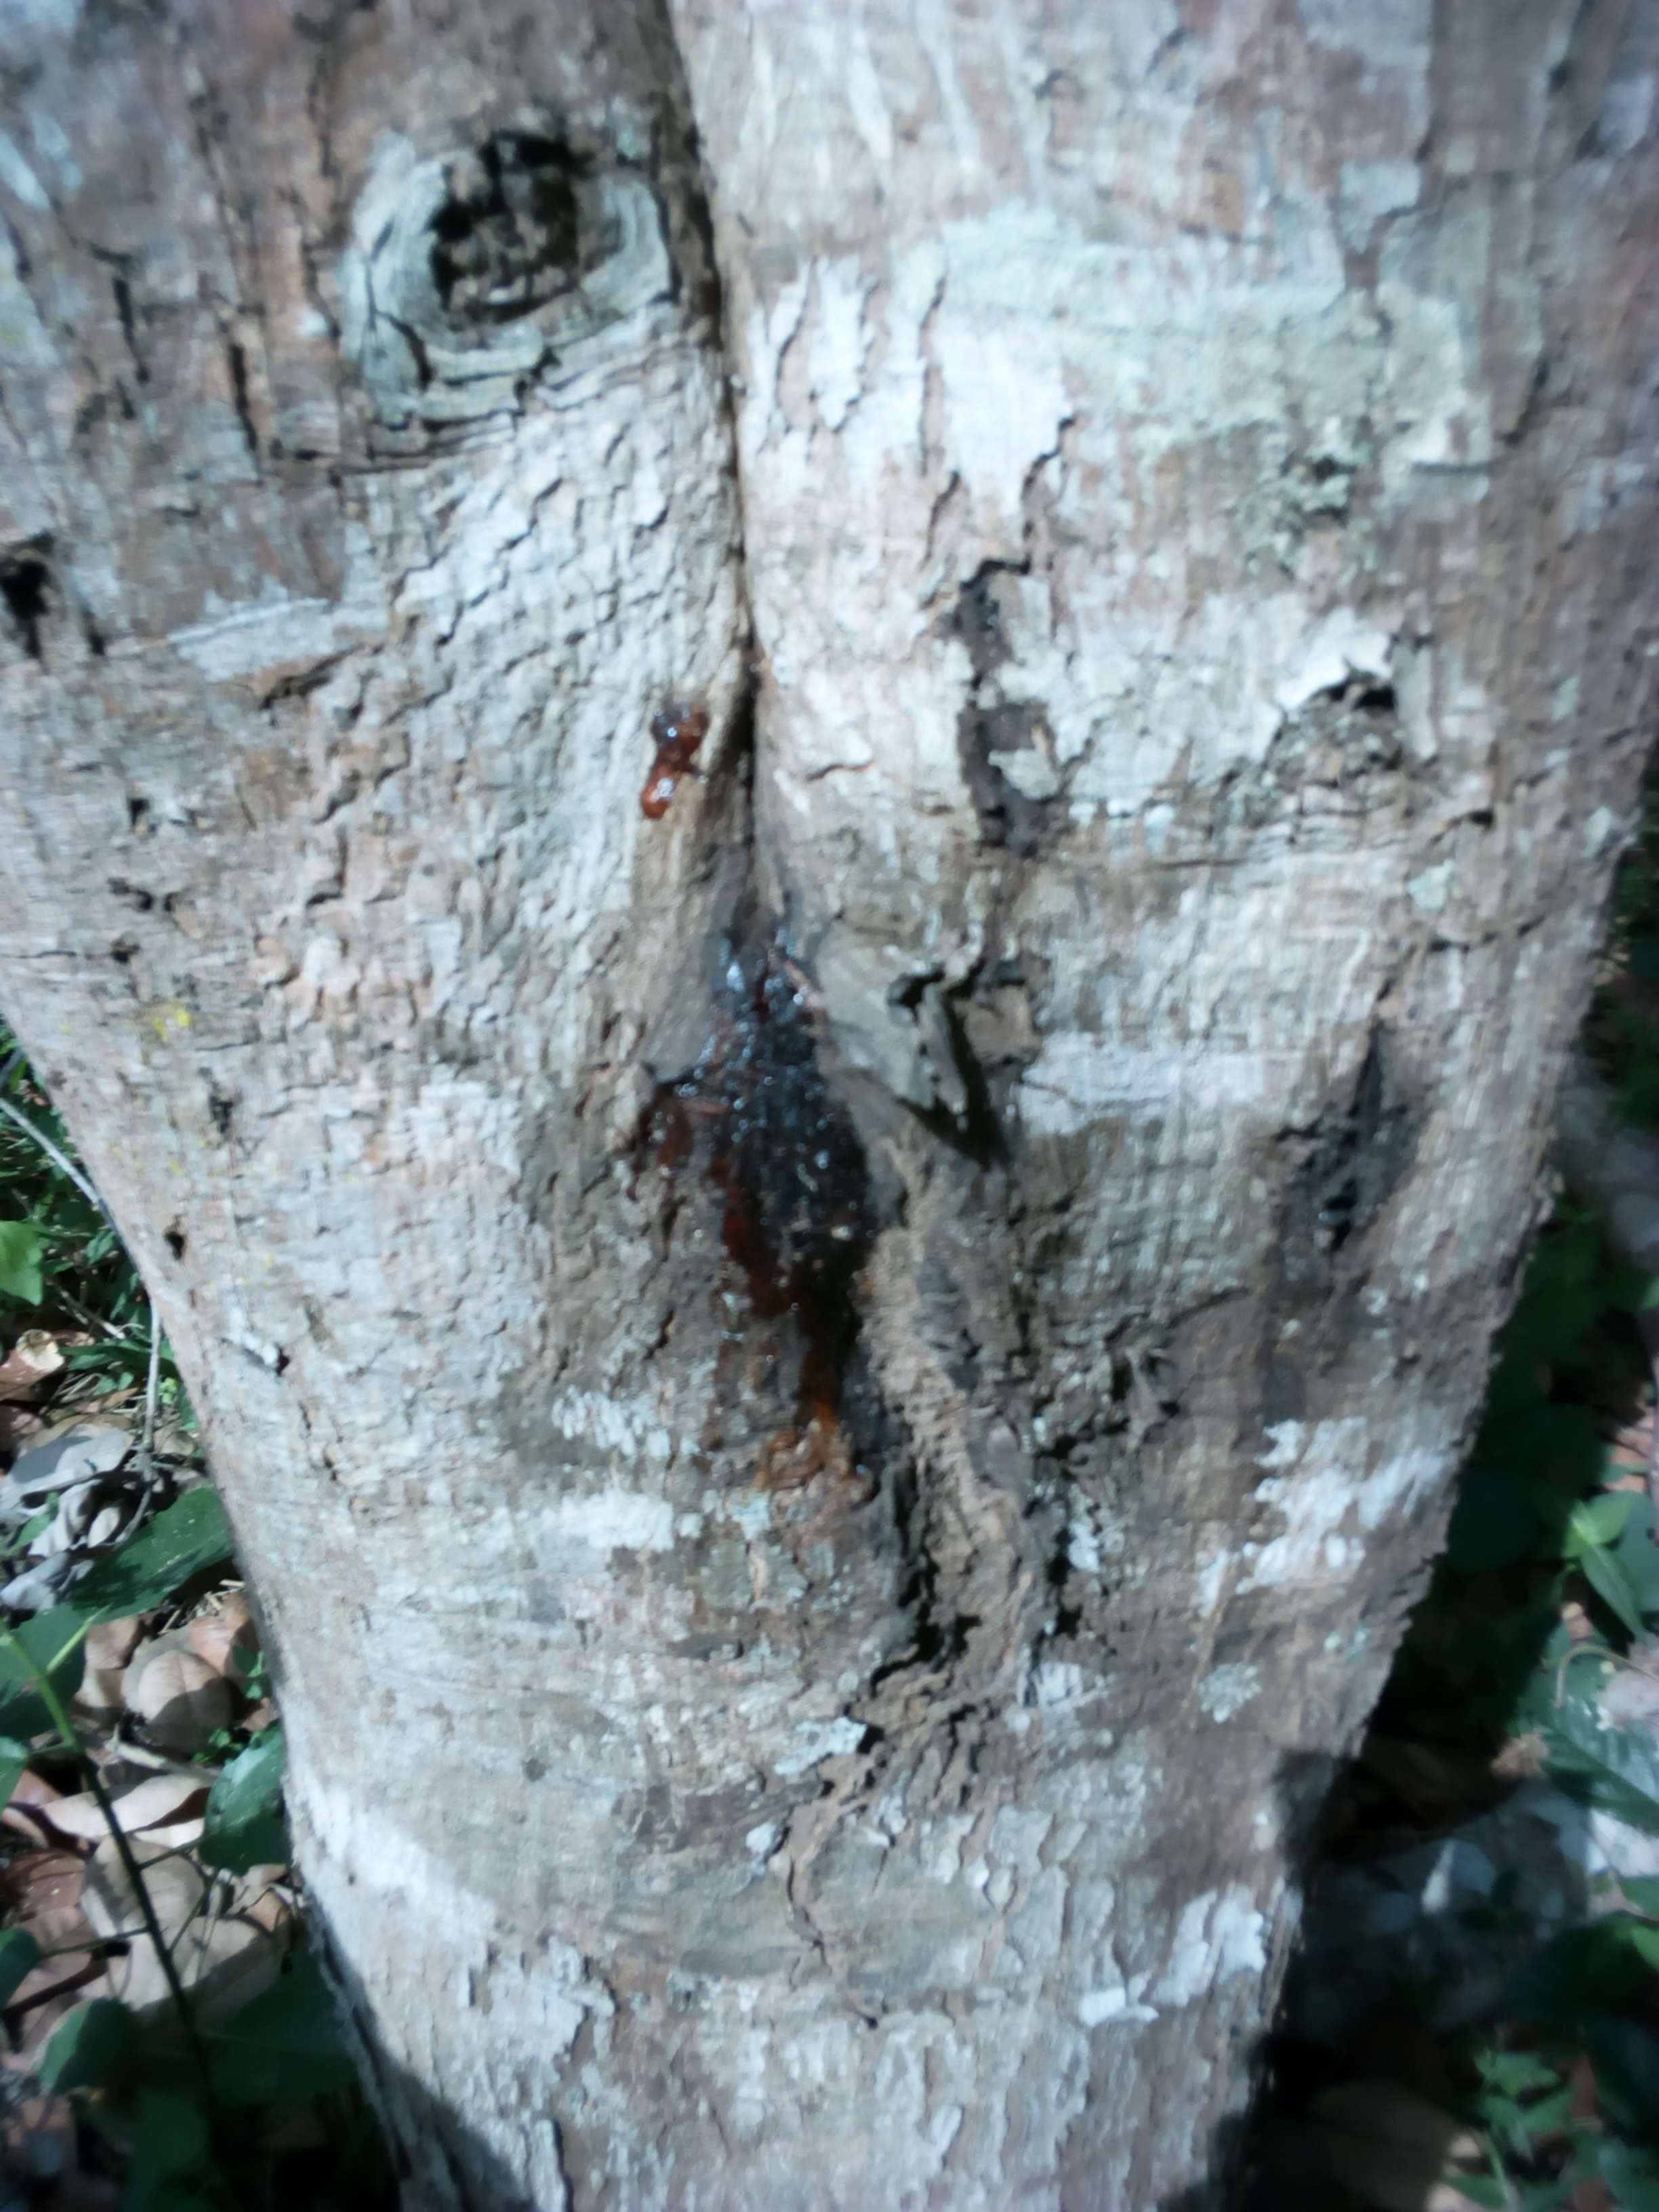Gommose: (619, 1014, 945, 1564)
